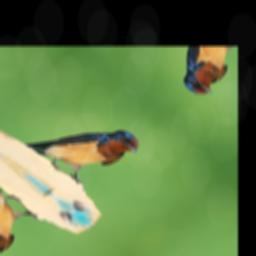Swallow: (21, 96, 147, 194)
